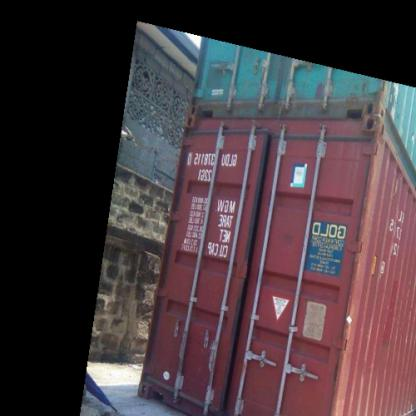Damage: (334, 124, 390, 390), (178, 356, 214, 392)
